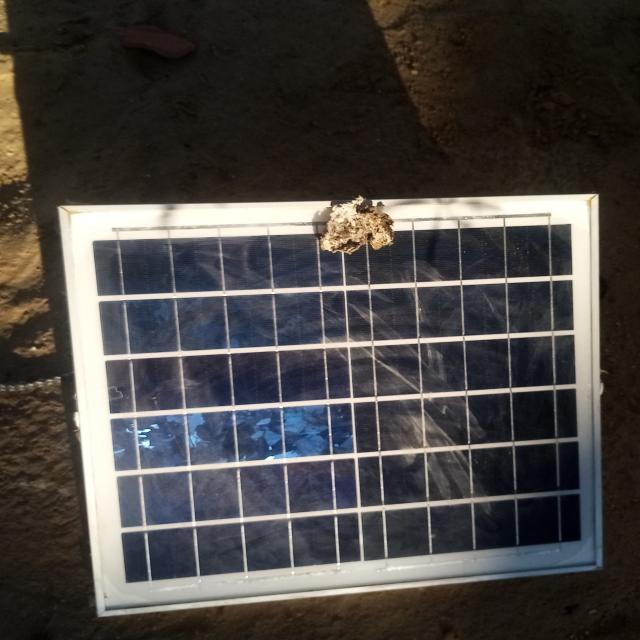faulty: (64, 195, 605, 612)
